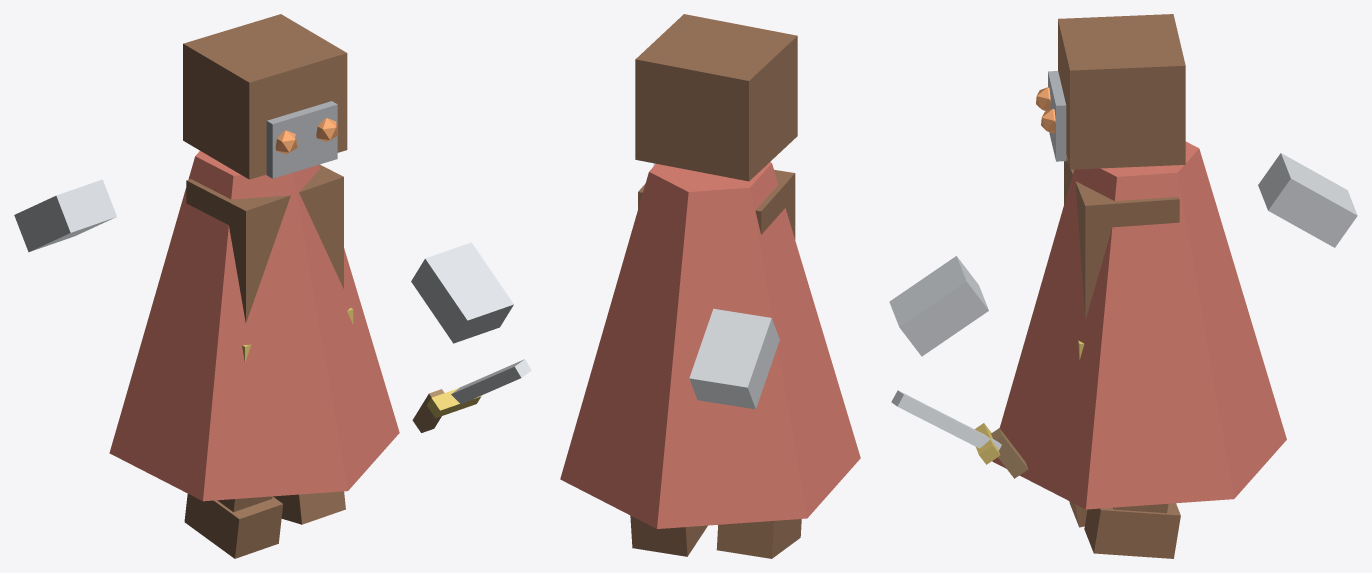
The model's file is npcpose_raider_attack_03.glb.
3 renders of one model, left to right at view 1: azimuth 30°, elevation 25°; view 2: azimuth 150°, elevation 25°; view 3: azimuth 270°, elevation 25°, orthographic. The views are drawn at different scales.
Parts seen in each view (by area): view 1: npcpose; view 2: npcpose; view 3: npcpose.
Part boxes in pixels (x1=…): npcpose: x1=14, y1=14, x2=531, y2=558; npcpose: x1=560, y1=14, x2=860, y2=558; npcpose: x1=889, y1=14, x2=1357, y2=558.
Size of the model in its own units: 1.03 by 1.58 by 1.37.
